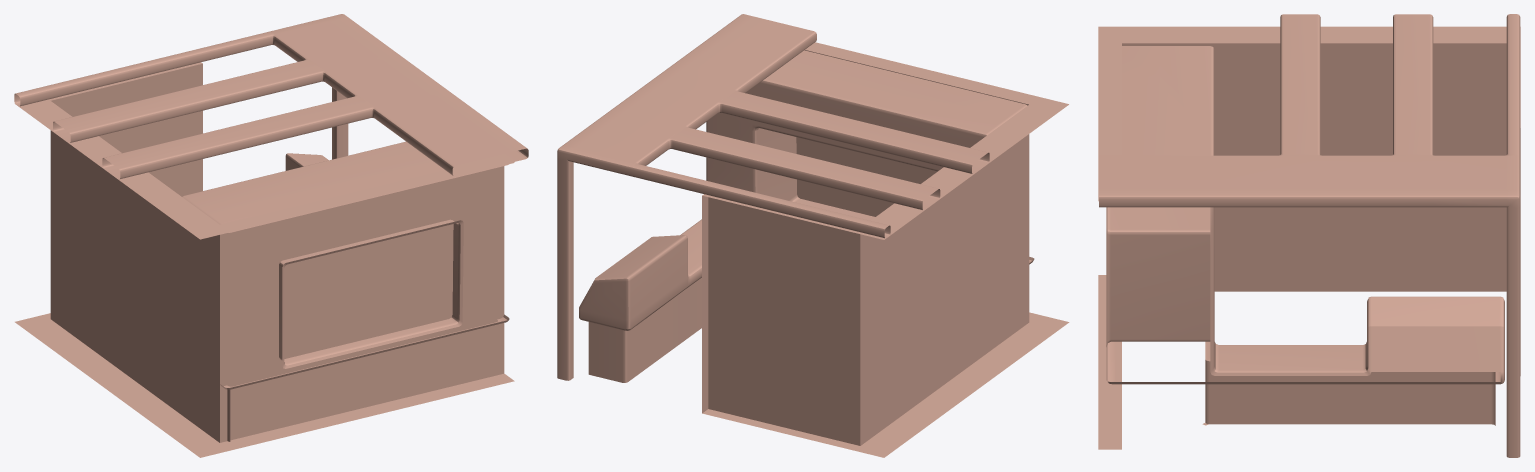
3 renders of one model, left to right at view 1: azimuth 30°, elevation 25°; view 2: azimuth 150°, elevation 25°; view 3: azimuth 270°, elevation 25°, orthographic. The views are drawn at different scales.
Visible parts, largest first — view 1: S01_group02; view 2: S01_group02; view 3: S01_group02.
Part boxes in pixels (x1,y1,x2,y2): S01_group02: (14,14,528,457); S01_group02: (557,14,1069,457); S01_group02: (1098,14,1520,457).
Size of the model in its own units: 22823 by 15234 by 22316.
